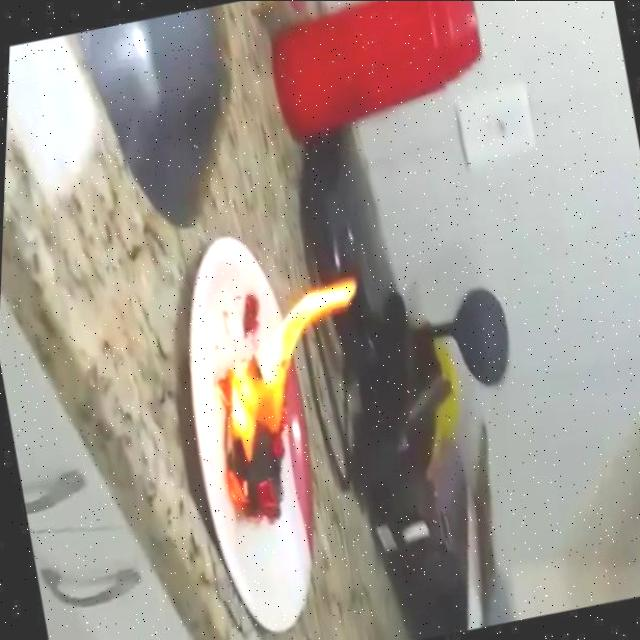fire: (182, 268, 369, 535)
